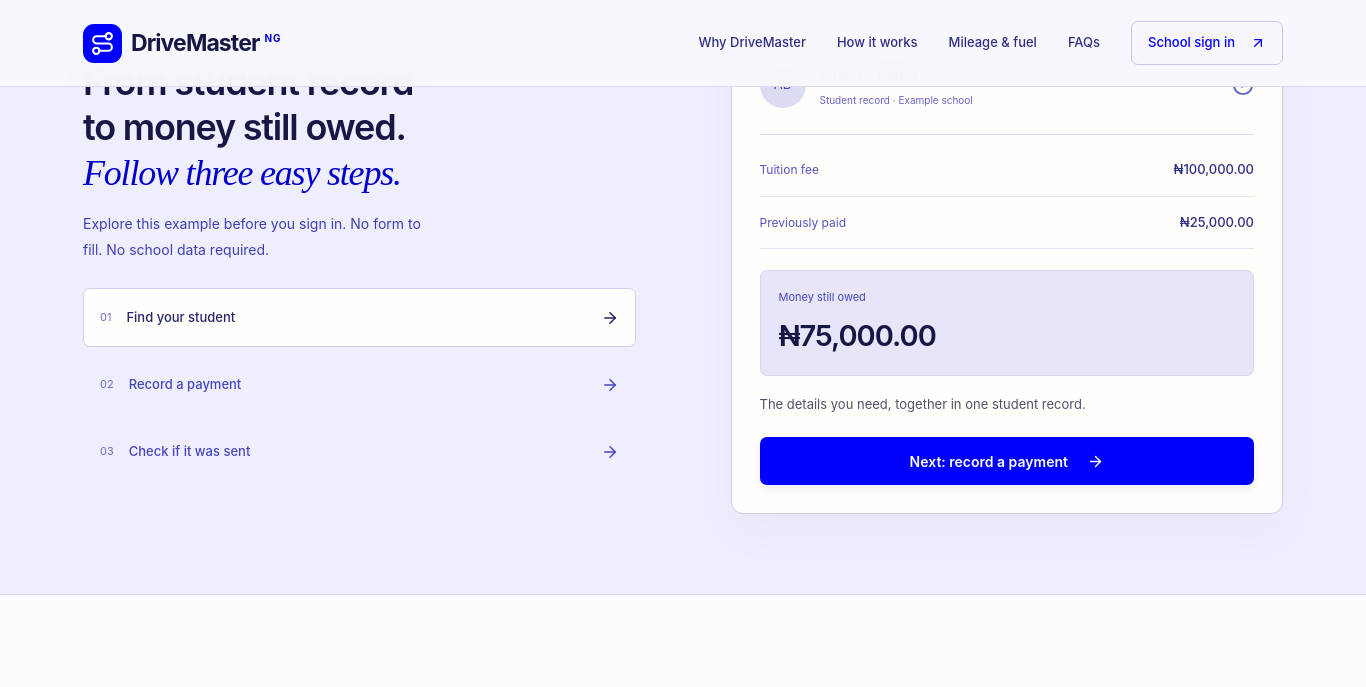
Test: home page › demonstrates a pending payment without making a network request
The width and height of the screenshot is (1366, 687).
(page scrolled)
Click the tab "02 Record a payment" at (185, 384), box [83,355,636,414]
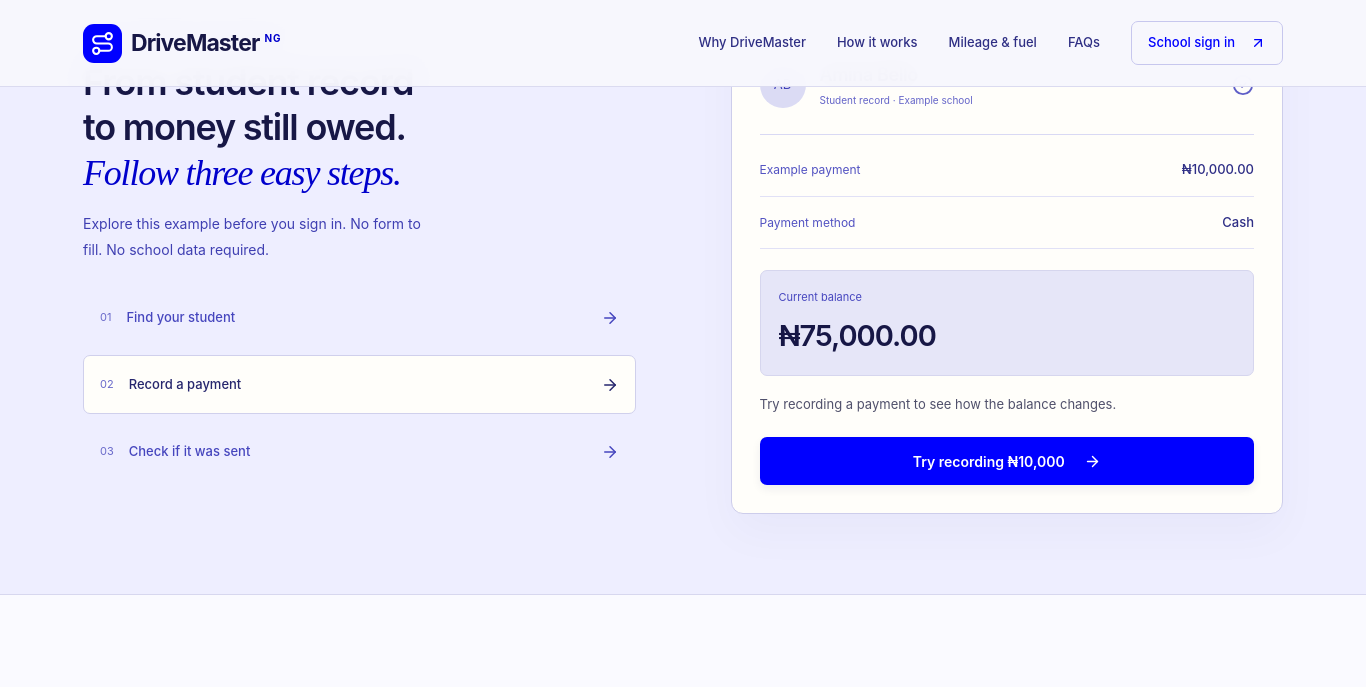
Expected: the text "₦75,000.00" is shown, [778,318,936,353]
Click the button "Try recording ₦10,000" at (1007, 461), box [760,437,1254,485]
(page scrolled)
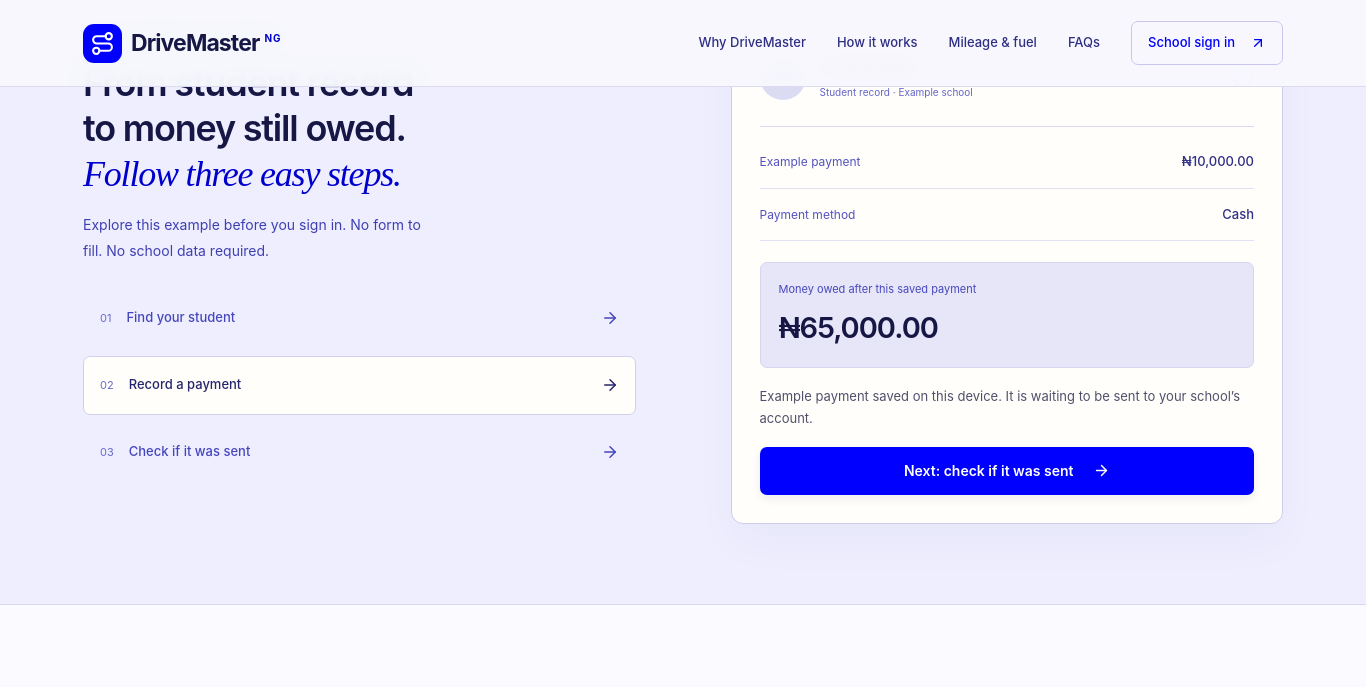
Result: the text "₦65,000.00" is shown at [778,310,938,345]
Result: the text "waiting to be sent to your school" is shown at [760,388,1240,426]
